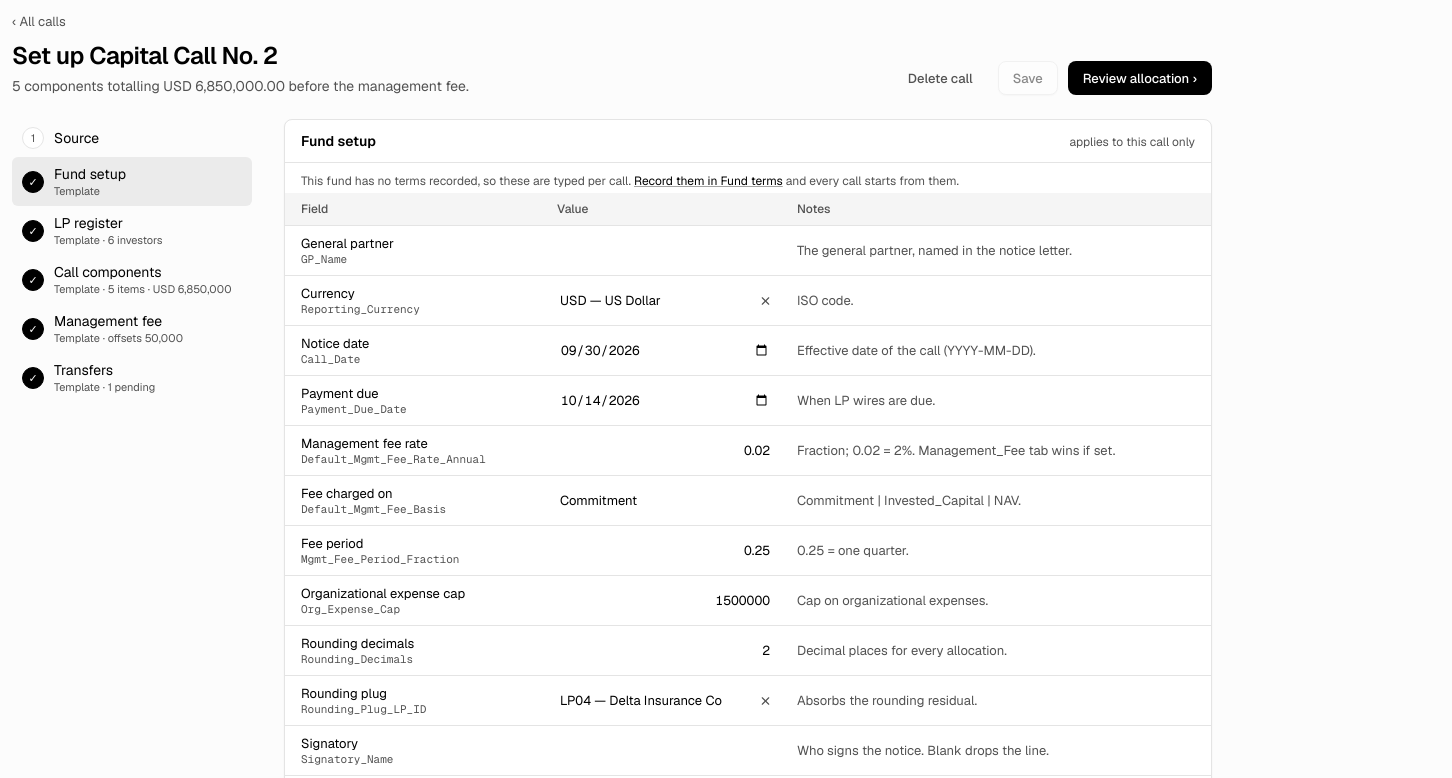
Test: one fee per period › says which period the fee covers
The width and height of the screenshot is (1452, 778).
What coordinates should you click on to do the following:
click the text "Management fee Template · offsets 50,000"
I would click on:
 (118, 328)
Its box is [54, 312, 183, 345].
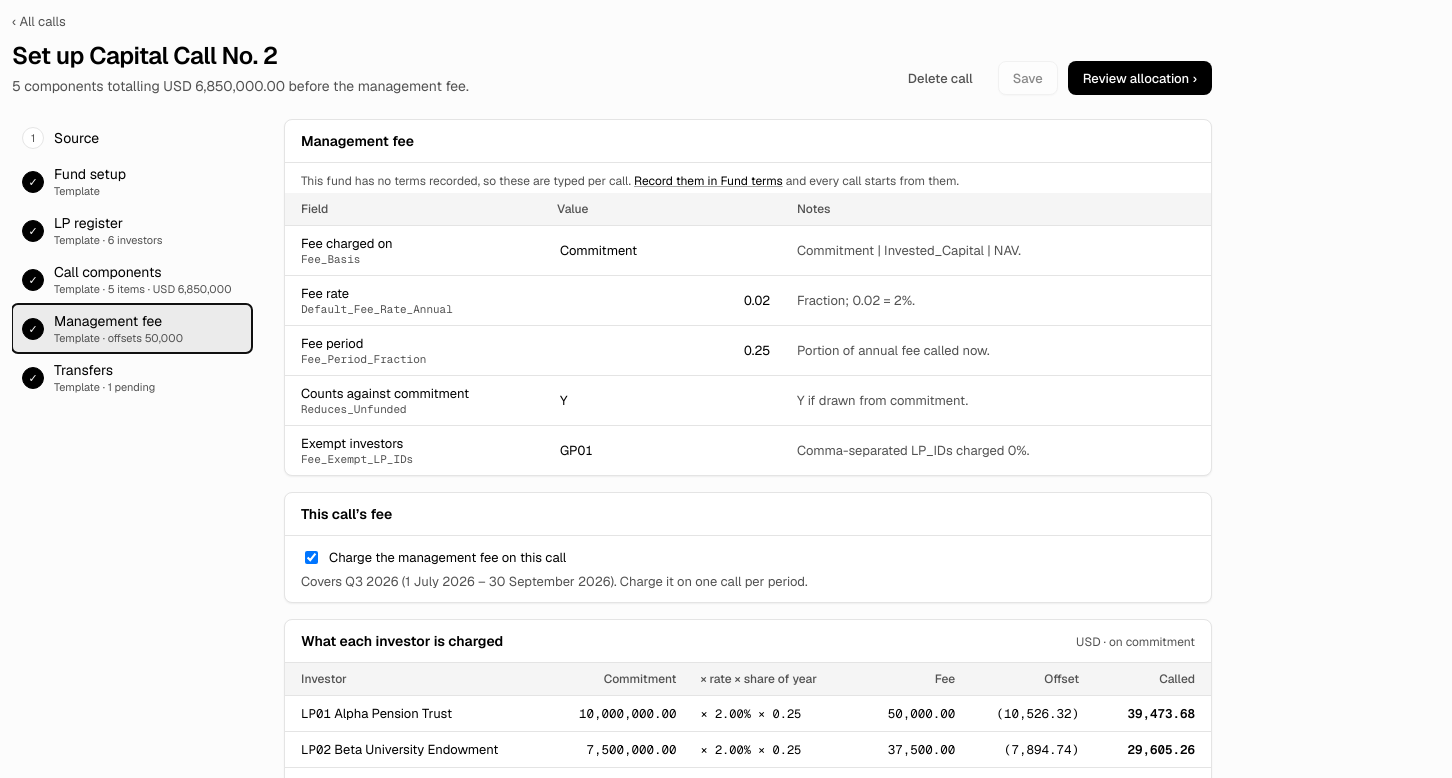
Expected: the text "Covers Q3 2026 (1 July 2026 – 30 September 2026)" is shown, [301, 573, 808, 590]
